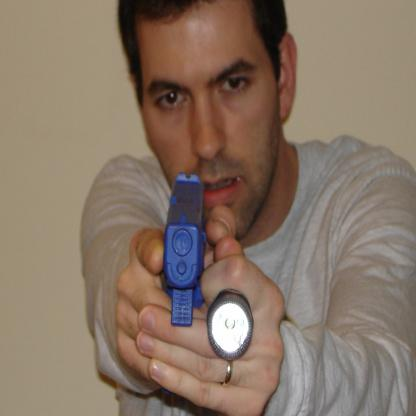gun: (146, 162, 218, 359)
